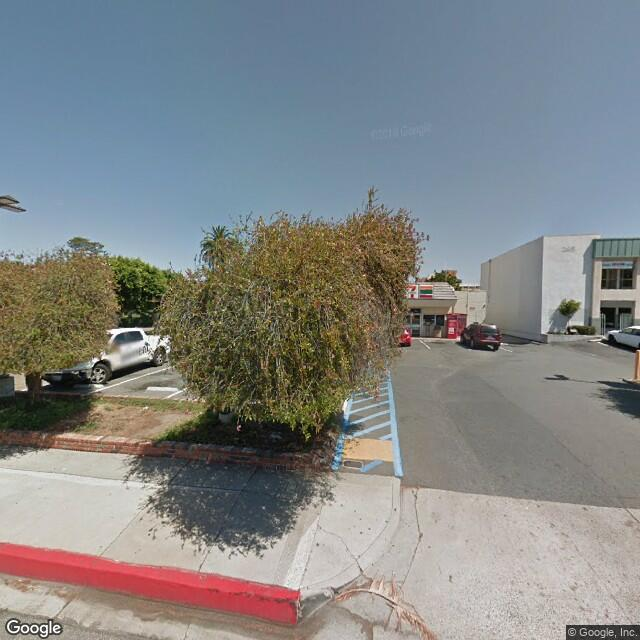litter: (272, 431, 283, 442), (142, 406, 151, 413)
